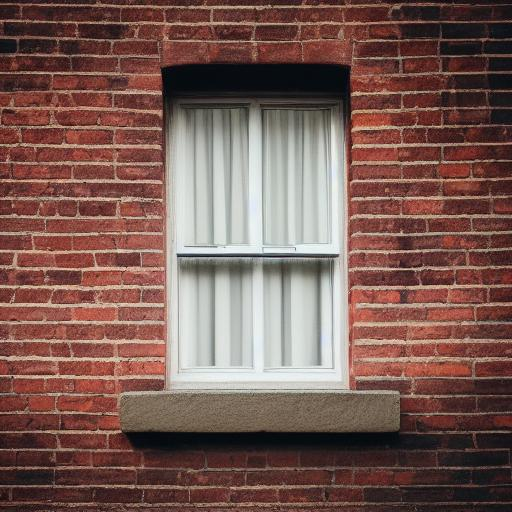Window: (116, 60, 405, 436)
